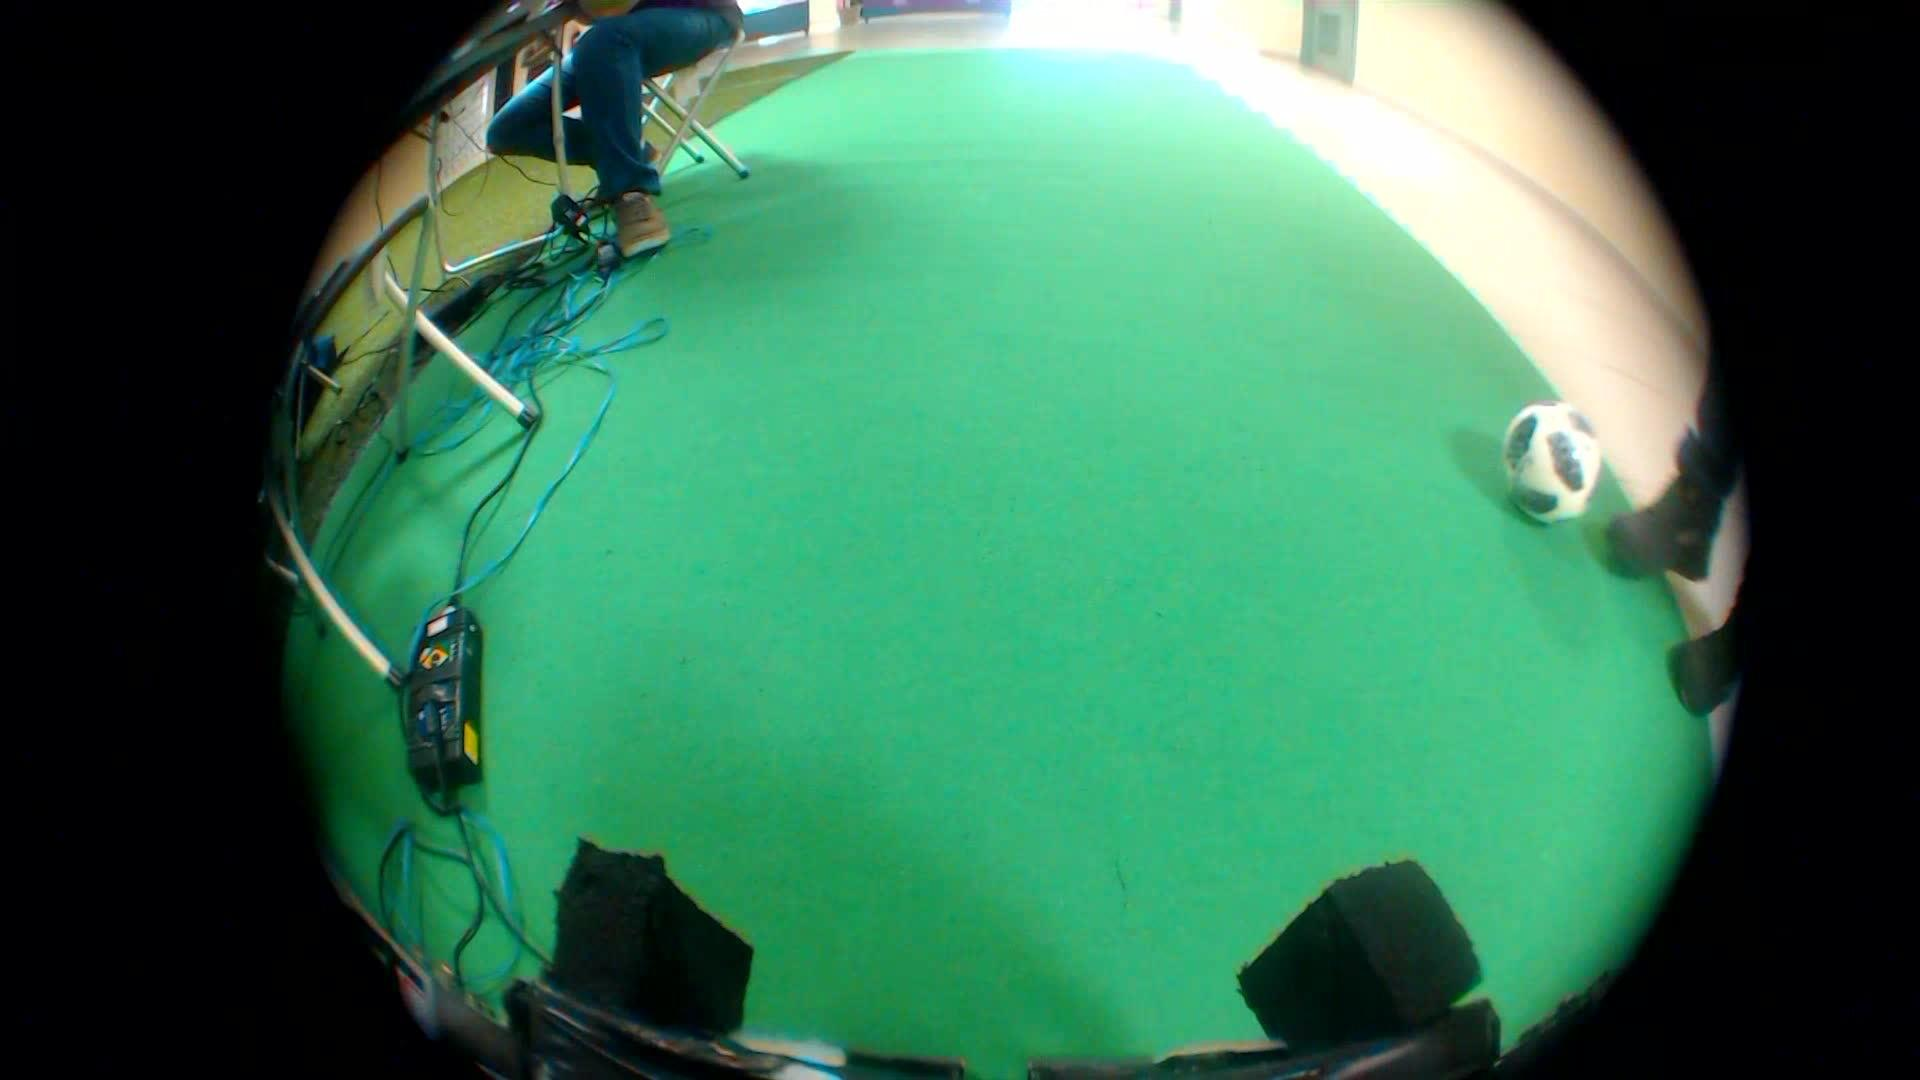ball: (1476, 392, 1623, 537)
